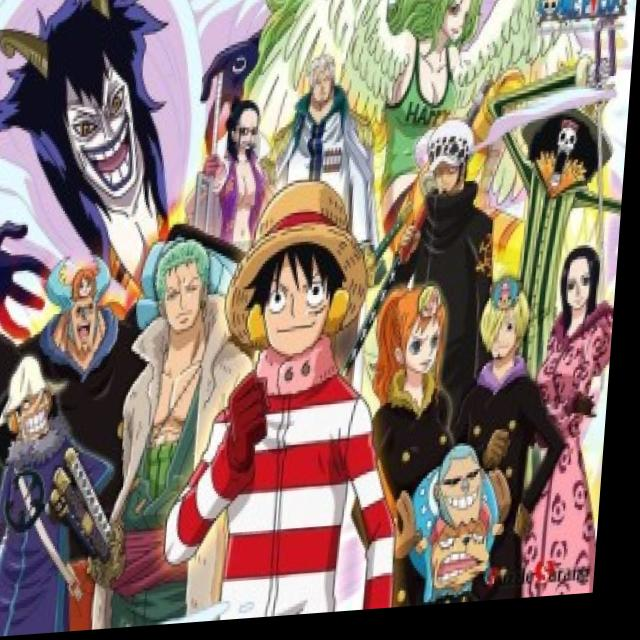Blook: (525, 102, 613, 211)
Chyopa: (408, 435, 521, 614)
Franky: (51, 243, 125, 362)
Luffy: (242, 174, 371, 374)
Nami: (366, 292, 461, 405)
NicoRobin: (559, 252, 607, 346)
Sangdi: (468, 293, 540, 384)
Usopp: (2, 342, 71, 457)
Zoro: (152, 229, 226, 345)
